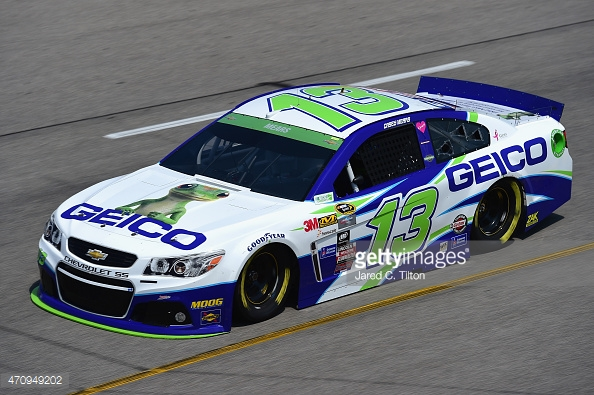Geico: (57, 197, 209, 256), (445, 138, 554, 191)
